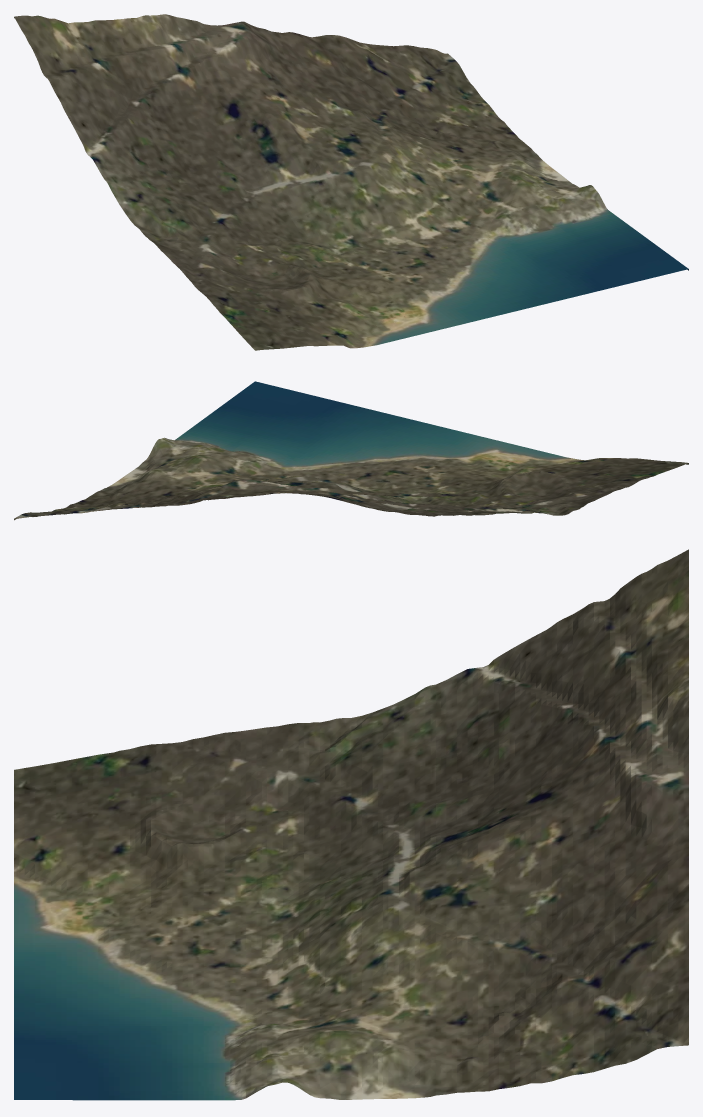
3 renders of one model, top to bottom at view 1: azimuth 30°, elevation 25°; view 2: azimuth 150°, elevation 25°; view 3: azimuth 270°, elevation 25°, orthographic. The views are drawn at different scales.
Size of the model in its own units: 250 by 101 by 241.
Materials: 1 (1 with a texture image).
